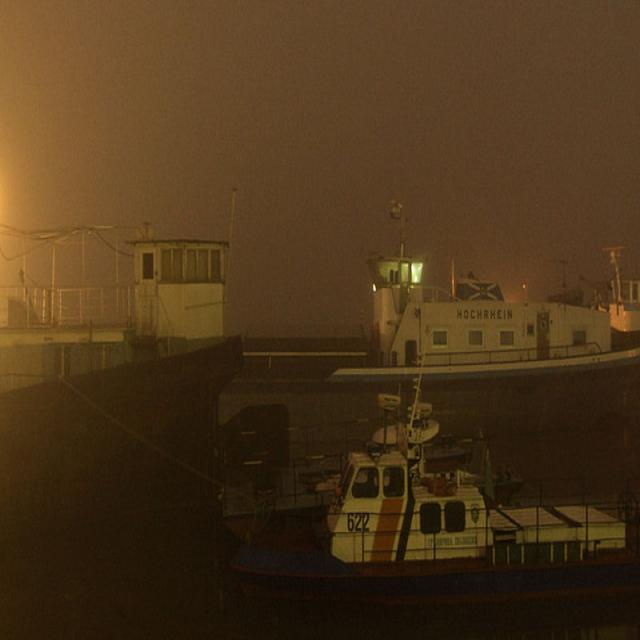Boat: (0, 202, 259, 465), (238, 477, 640, 609), (354, 213, 619, 398), (606, 207, 640, 354)
